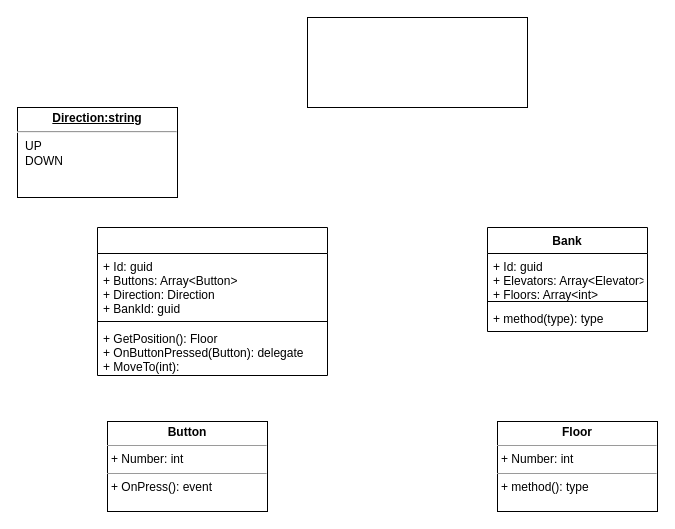
Image size: 675x529. Some labels were removed from this diagram. The box of each missing label's shape, as (x1, y1, x2, y2) in pixels:
Elevator: (96, 226, 328, 376)
ElevatorFactory + Banks: Array<Bank> + OnElevatorCall(int, guid): Type: (306, 16, 528, 108)
